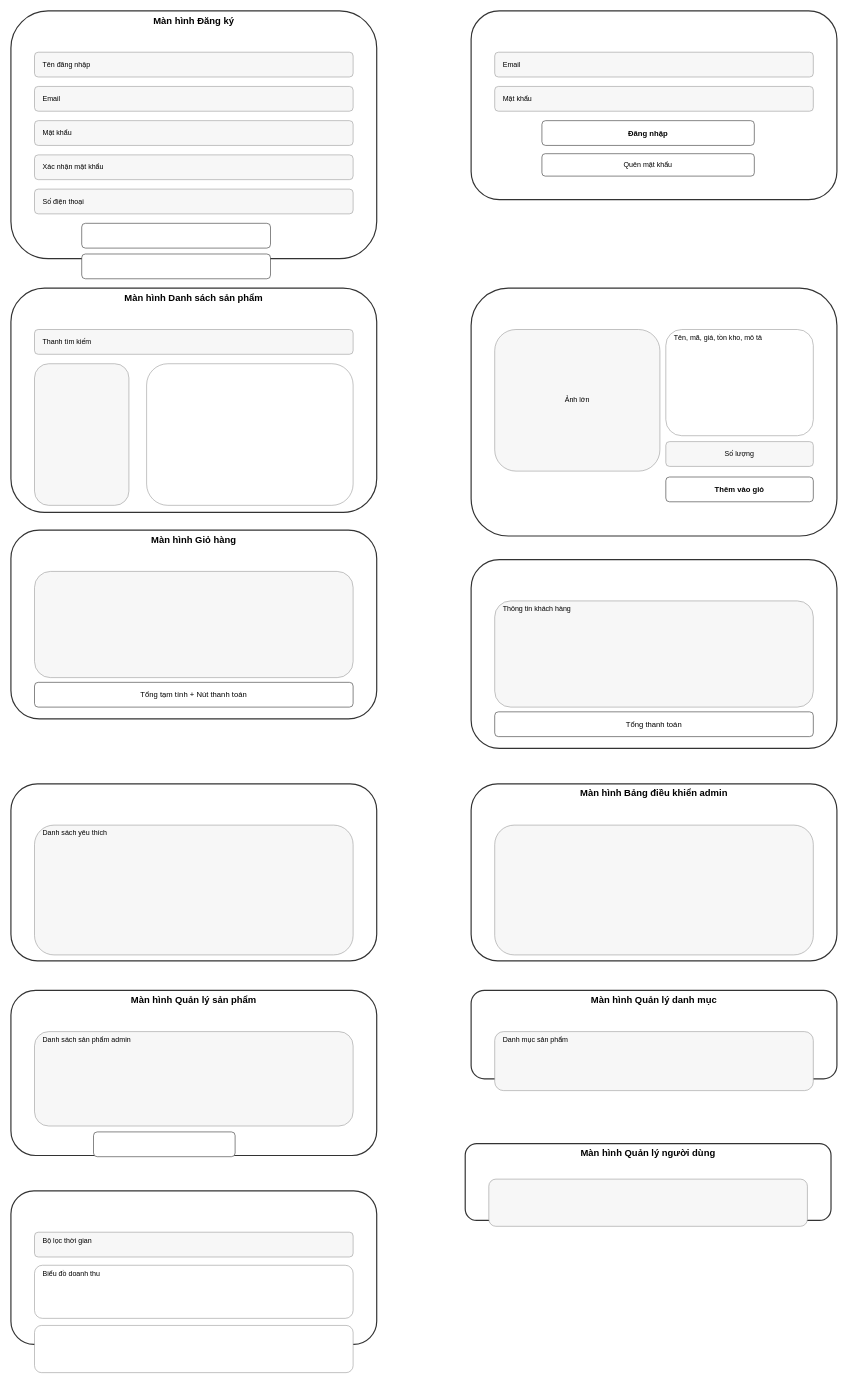
This 847x1383 diagram has some shape labels left out. Each missing label, with the box of its shape:
Bảng số liệu chi tiết: (34, 1325, 353, 1373)
Danh mục: (34, 363, 129, 505)
Danh sách người dùng: (488, 1179, 807, 1226)
Danh sách sản phẩm trong giỏ: (34, 571, 353, 678)
Lưới 3 cột: (146, 363, 353, 505)
Màn hình Báo cáo thống kê: (10, 1190, 377, 1345)
Màn hình Chi tiết sản phẩm: (470, 287, 837, 536)
Màn hình Thanh toán: (470, 559, 837, 749)
Màn hình Yêu thích: (10, 783, 377, 961)
Màn hình Đăng nhập: (470, 10, 837, 200)
Quay lại đăng nhập: (81, 253, 271, 279)
Thêm sản phẩm mới: (93, 1131, 235, 1157)
Thống kê tổng quan: (494, 825, 813, 955)
Tạo tài khoản: (81, 223, 271, 248)
